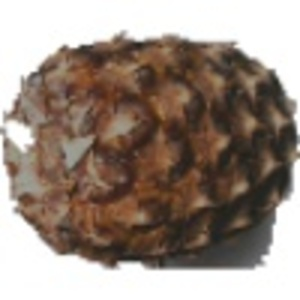abacaxi: (3, 35, 296, 267)
